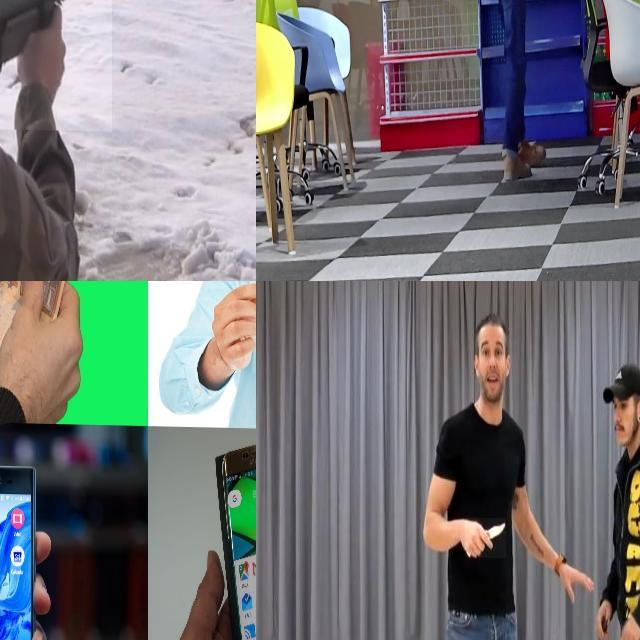-: (465, 516, 506, 557)
gun-knife-thesis - v11 Yolov5 augmented: (0, 0, 111, 129), (520, 0, 549, 22)
